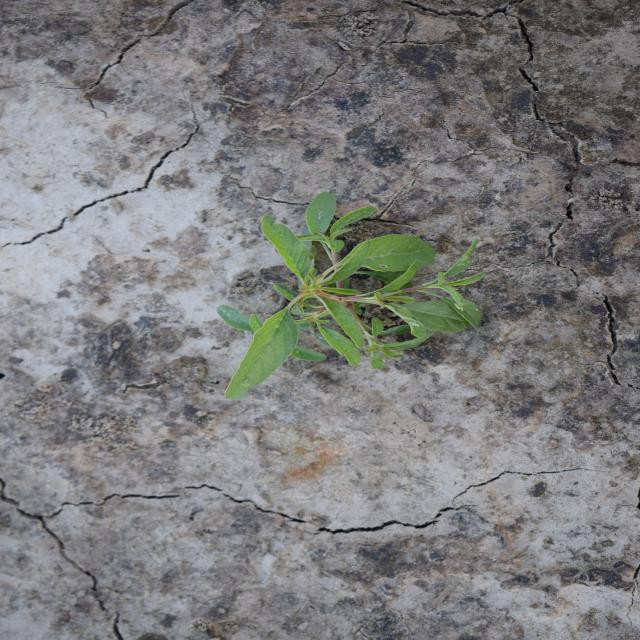Waterhemp: (214, 190, 490, 402)
